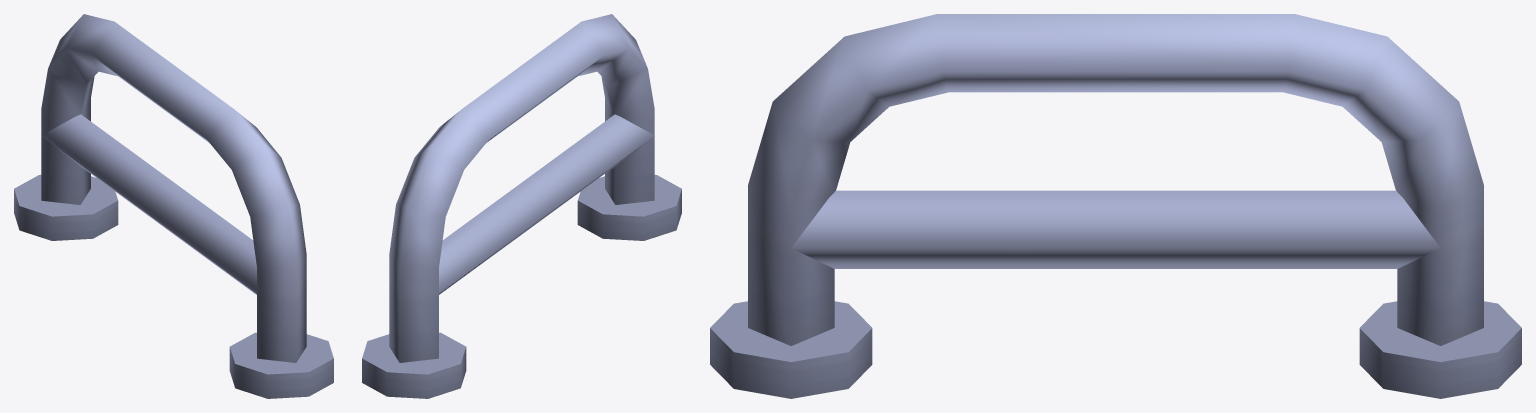
The model's file is construction-fence.glb.
3 renders of one model, left to right at view 1: azimuth 30°, elevation 25°; view 2: azimuth 150°, elevation 25°; view 3: azimuth 270°, elevation 25°, orthographic. The views are drawn at different scales.
Parts seen in each view (by area): view 1: construction-fence; view 2: construction-fence; view 3: construction-fence.
Boxes of the visible parts, x1,y1,x2,y2 form: construction-fence: (14, 14, 333, 398); construction-fence: (362, 14, 681, 398); construction-fence: (710, 14, 1521, 398).
Bounding box in the file's own units: 0.075 × 0.1787 × 0.375.
1 material, 1 textured.
